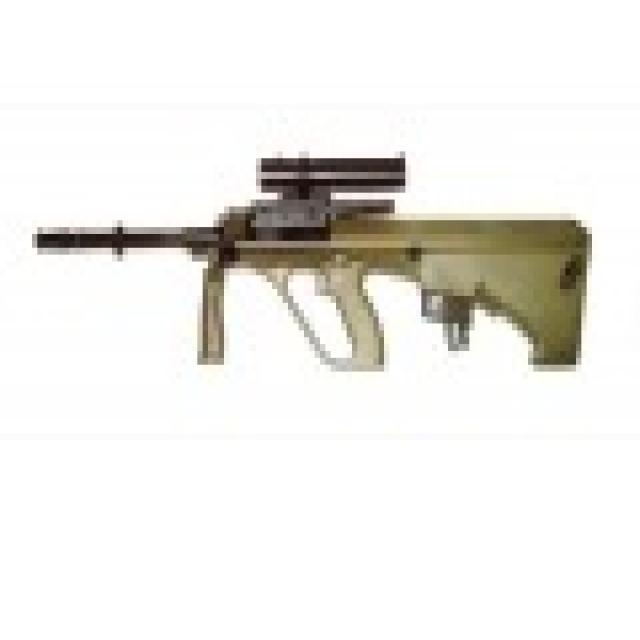Gun: (22, 126, 598, 392)
